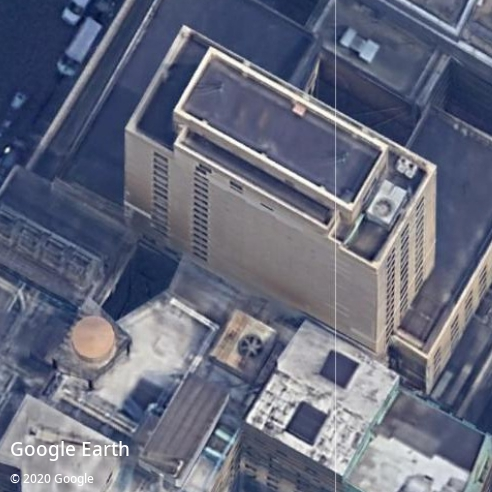Vent: (238, 334, 263, 359), (372, 198, 394, 218)
